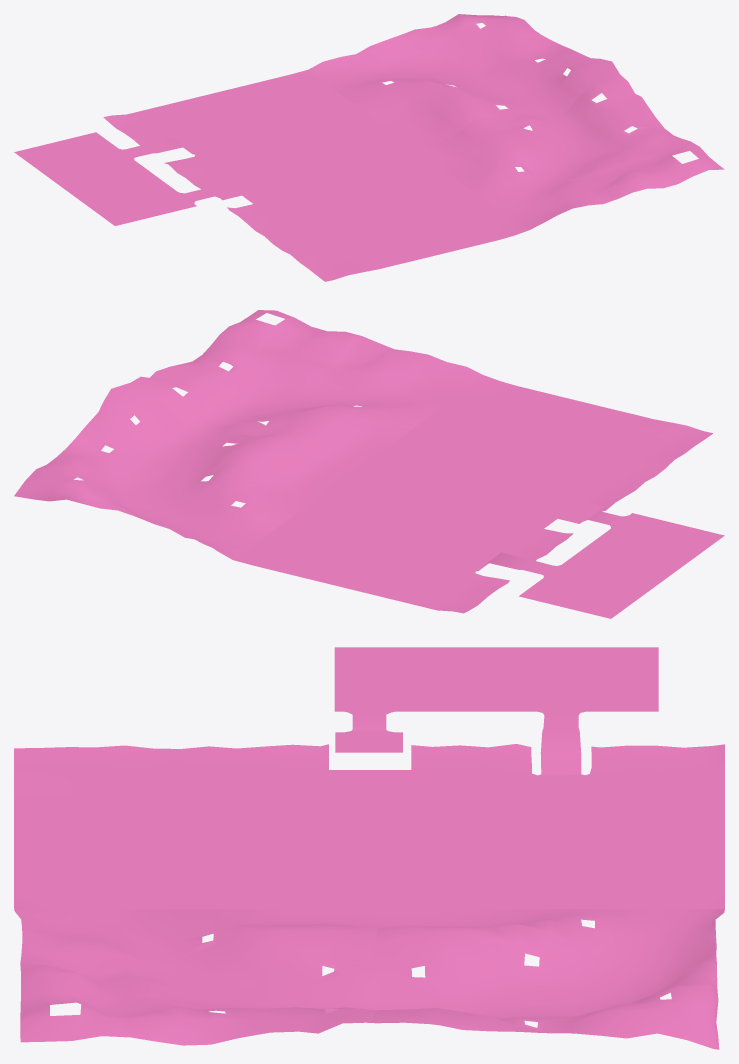
Rendered from navmesh.glb.
3 renders of one model, top to bottom at view 1: azimuth 30°, elevation 25°; view 2: azimuth 150°, elevation 25°; view 3: azimuth 270°, elevation 25°, orthographic. The views are drawn at different scales.
Visible parts, largest first — view 1: NewNavMesh; view 2: NewNavMesh; view 3: NewNavMesh.
Part boxes in pixels (box(x1,y1,x2,y2)): NewNavMesh: box(14, 14, 724, 281); NewNavMesh: box(14, 310, 724, 618); NewNavMesh: box(14, 647, 724, 1049).
Size of the model in its own units: 109 by 6.04 by 80.03.
